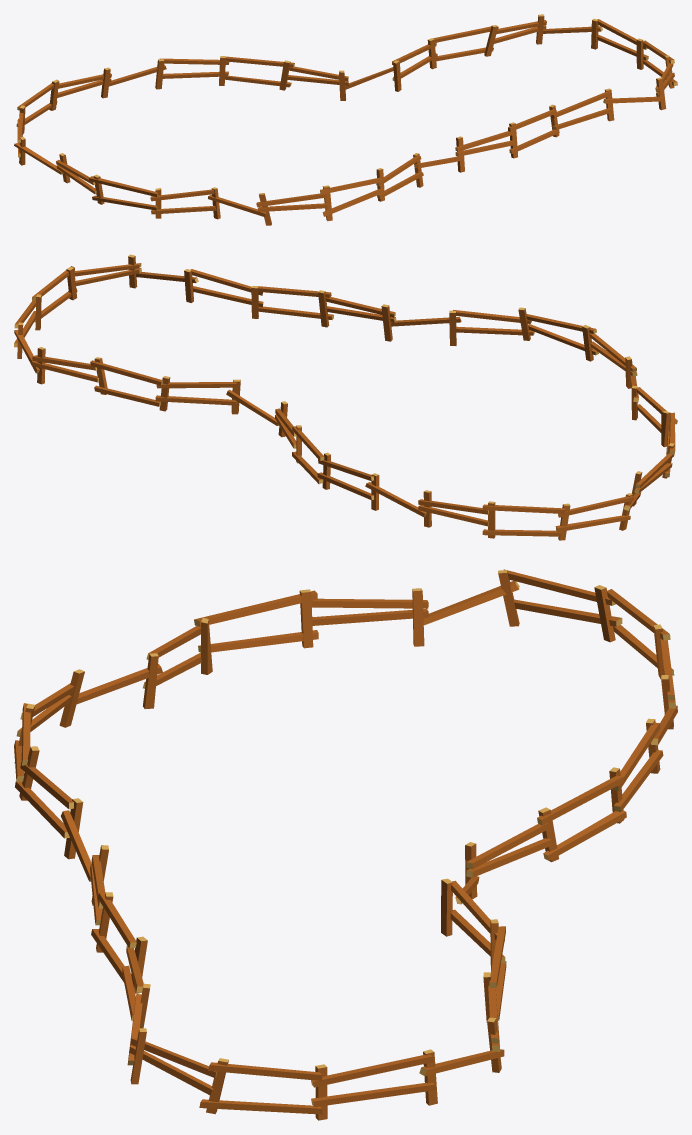
File: Fence.fbx
The picture shows the model from 3 angles, top to bottom: view 1: azimuth 30°, elevation 25°; view 2: azimuth 150°, elevation 25°; view 3: azimuth 270°, elevation 25°; orthographic projection. The views are drawn at different scales.
Visible parts, largest first — view 1: Cube; view 2: Cube; view 3: Cube.
Part boxes in pixels (x1,y1,x2,y2): Cube: (14,14,677,225); Cube: (14,254,677,540); Cube: (14,569,677,1120).
Bounding box in the file's own units: 675 × 47.04 × 378.
